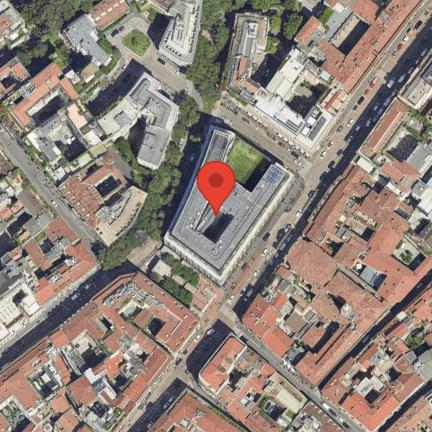area_open: (108, 10, 188, 98)
built: (242, 64, 431, 384), (3, 277, 199, 430), (1, 60, 176, 227), (233, 7, 416, 155), (2, 147, 98, 324), (324, 285, 428, 424), (168, 170, 291, 278), (201, 340, 345, 430), (65, 2, 129, 70), (150, 6, 201, 68), (148, 394, 236, 429), (388, 394, 428, 431), (201, 134, 230, 163), (2, 6, 21, 46)
vegetation_high: (104, 100, 210, 273), (189, 6, 306, 107), (7, 4, 88, 79), (138, 253, 205, 304)
